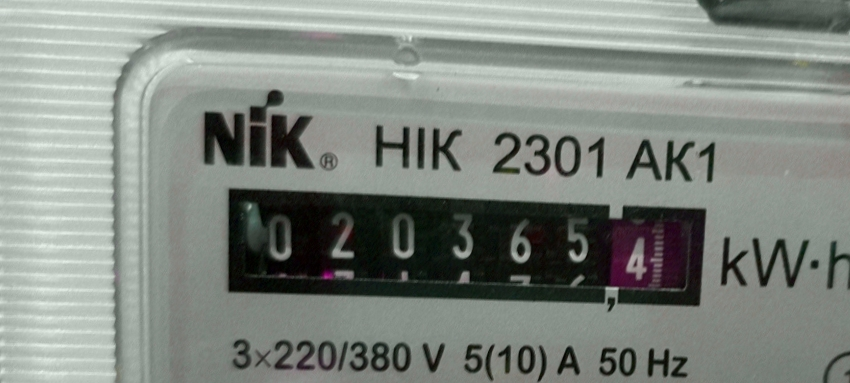0: (263, 208, 298, 264), (388, 210, 420, 261)
2: (327, 208, 359, 260)
3: (448, 210, 478, 261)
4: (623, 232, 648, 281)
5: (564, 215, 593, 263)
6: (506, 213, 534, 265)
screen: (210, 170, 723, 327)
